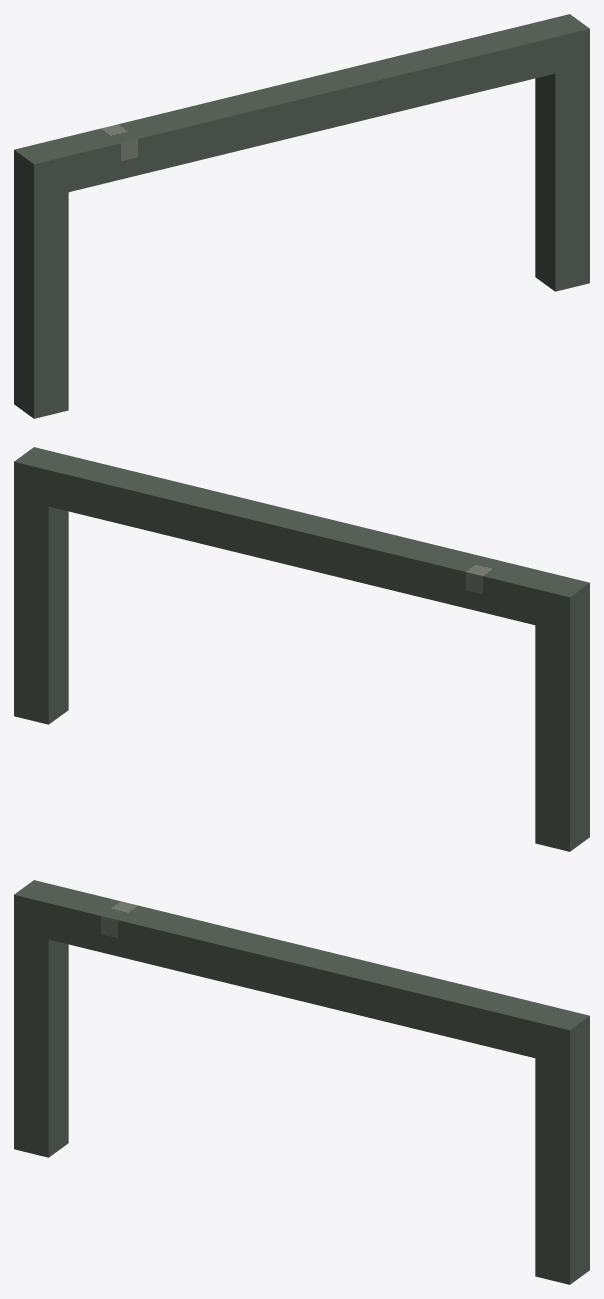
File: stair_railing.gltf
The picture shows the model from 3 angles, top to bottom: view 1: azimuth 30°, elevation 25°; view 2: azimuth 150°, elevation 25°; view 3: azimuth 330°, elevation 25°; orthographic projection.
Visible parts, largest first — view 1: top_rail, post (×2); view 2: top_rail, post (×2); view 3: top_rail, post (×2).
Part boxes in pixels (<box>): top_rail: <box>14,14,589,200</box>; post (×2): <box>14,65,589,418</box>; top_rail: <box>14,447,589,633</box>; post (×2): <box>14,498,589,851</box>; top_rail: <box>14,880,589,1066</box>; post (×2): <box>14,931,589,1284</box>.
Bounding box in the file's own units: 2 × 0.875 × 0.125.
1 material, 1 textured.
